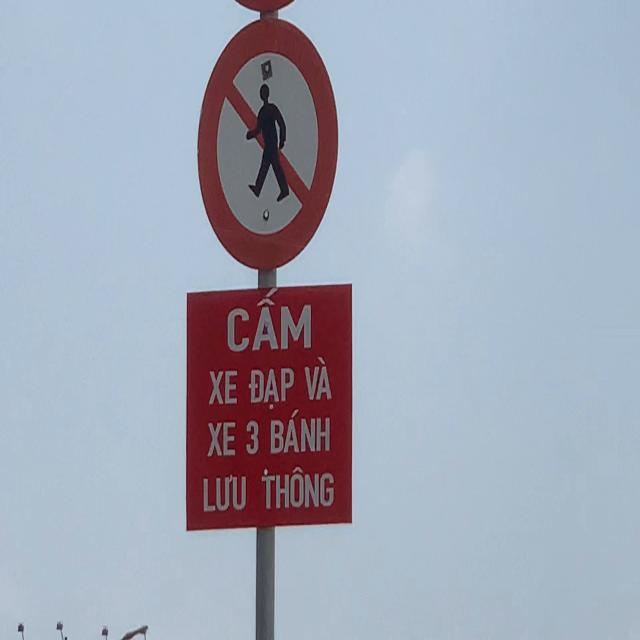Cam con lai: (194, 14, 340, 270)
